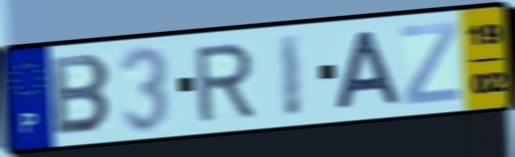3: (118, 40, 175, 137)
A: (331, 29, 405, 113)
B: (49, 52, 114, 138)
I: (276, 30, 305, 121)
R: (191, 40, 258, 125)
Z: (398, 19, 462, 108)
